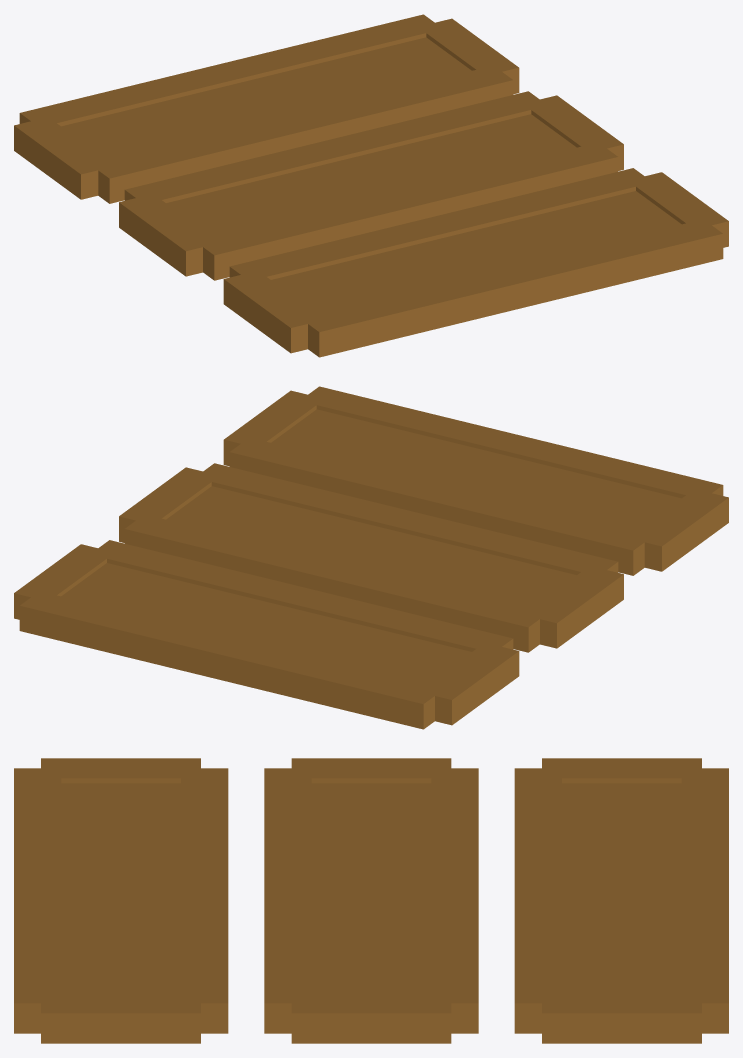
The model's file is SM_Bancales_v1_Plantado_LOD1.fbx.
The picture shows the model from 3 angles, top to bottom: view 1: azimuth 30°, elevation 25°; view 2: azimuth 150°, elevation 25°; view 3: azimuth 270°, elevation 25°; orthographic projection. The views are drawn at different scales.
Visible parts, largest first — view 1: SM_vida_fuerte_v11_LOD1; view 2: SM_vida_fuerte_v11_LOD1; view 3: SM_vida_fuerte_v11_LOD1.
Boxes of the visible parts, x1,y1,x2,y2 form: SM_vida_fuerte_v11_LOD1: [14, 14, 728, 357]; SM_vida_fuerte_v11_LOD1: [14, 386, 728, 729]; SM_vida_fuerte_v11_LOD1: [14, 758, 728, 1043].
Size of the model in its own units: 4.34 by 0.24 by 5.14.
